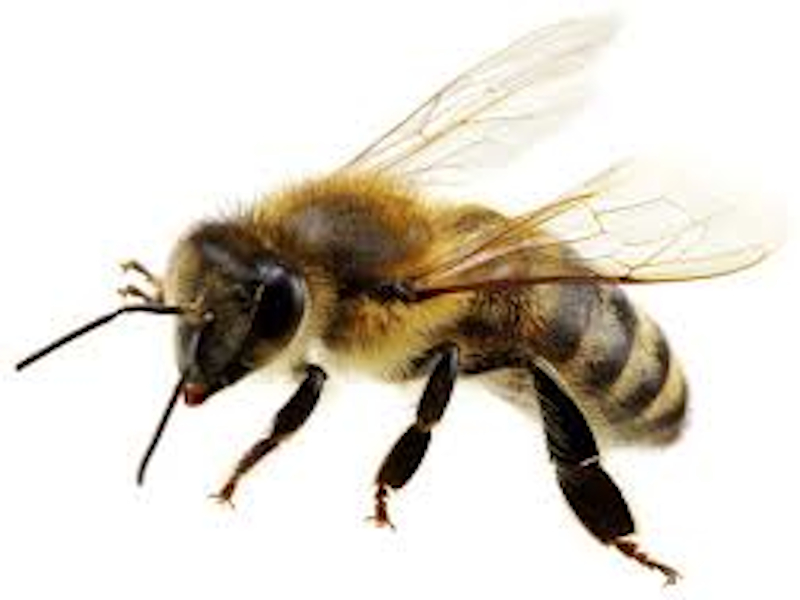abeja: (1, 13, 785, 557)
